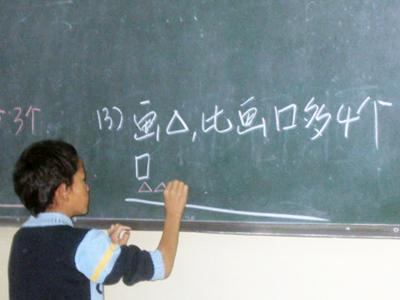person: (6, 139, 189, 300)
